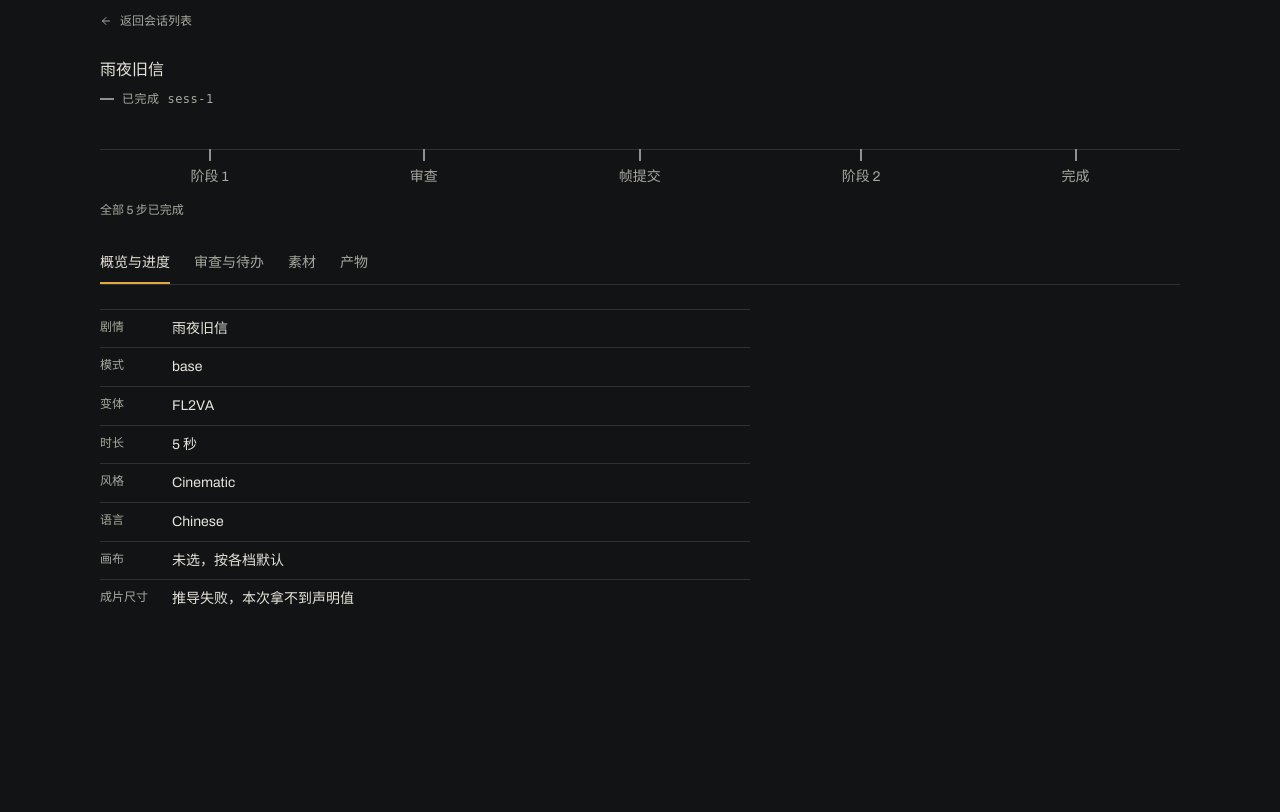
SessionDetailView 产物分区 › 完成态展示交付文本：可复制、可下载，且无交付确认闸门
Click the tab "产物".
click(354, 264)  # box [340, 244, 368, 284]
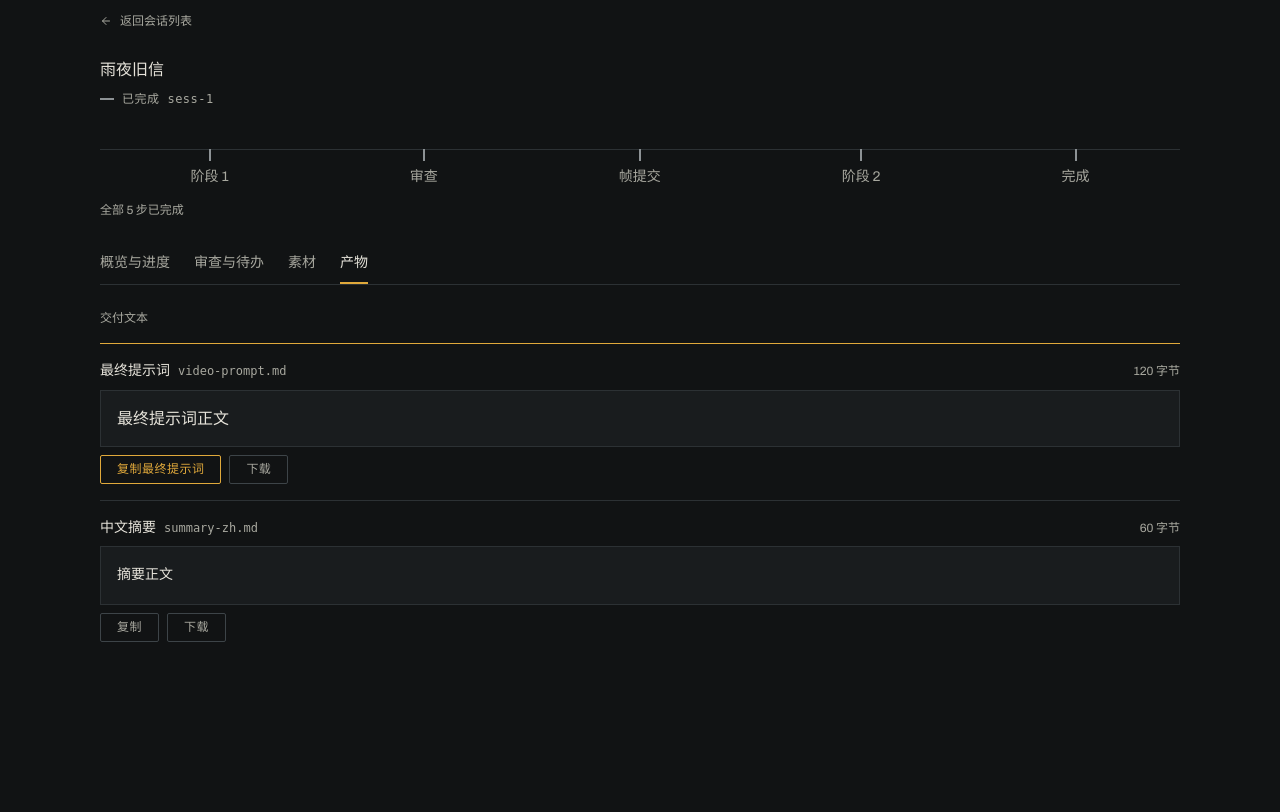
Check: the text "最终提示词正文" is shown, box [117, 410, 229, 427]
Check: the text "摘要正文" is shown, box [117, 567, 173, 582]
Check: the button "复制最终提示词" is shown, box [100, 455, 221, 484]
